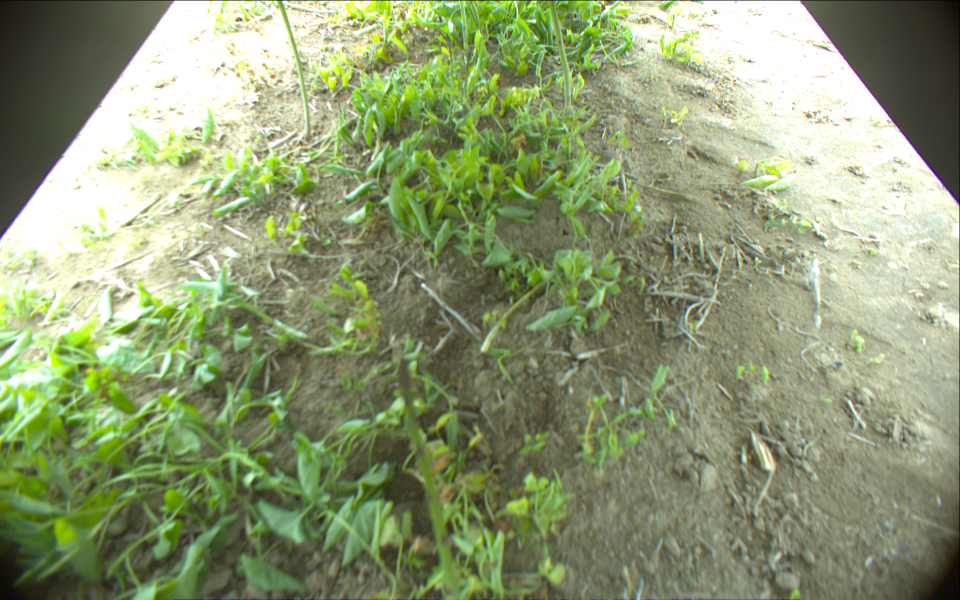aspa: (392, 359, 464, 596), (479, 269, 557, 352), (277, 1, 311, 140), (545, 1, 573, 126), (459, 1, 470, 53)
